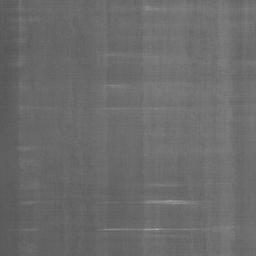Waist folding: (100, 181, 233, 239), (103, 50, 192, 111), (21, 200, 37, 232), (119, 3, 166, 12), (218, 58, 256, 67), (0, 16, 37, 23), (19, 104, 54, 110), (17, 145, 31, 153), (0, 65, 23, 69)
